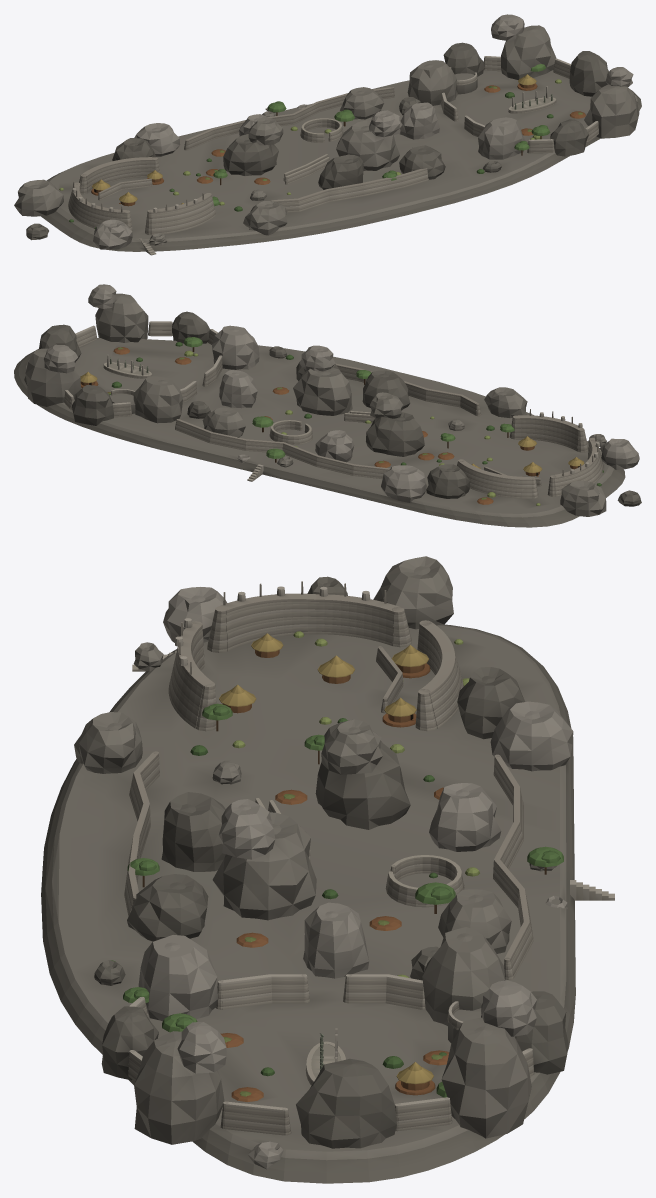
The model's file is hill-complex-1500.glb.
The picture shows the model from 3 angles, top to bottom: view 1: azimuth 30°, elevation 25°; view 2: azimuth 150°, elevation 25°; view 3: azimuth 270°, elevation 25°; orthographic projection. The views are drawn at different scales.
Visible parts, largest first — view 1: p0_kopje, p1_walls, p4_trees, p3_houses, p2_birds-and-turrets; view 2: p0_kopje, p1_walls, p4_trees, p3_houses, p2_birds-and-turrets; view 3: p0_kopje, p1_walls, p3_houses, p4_trees, p2_birds-and-turrets.
Boxes of the visible parts, x1=… form: p0_kopje: x1=14, y1=14, x2=641, y2=251; p1_walls: x1=68, y1=56, x2=598, y2=255; p4_trees: x1=59, y1=64, x2=561, y2=228; p3_houses: x1=91, y1=74, x2=585, y2=206; p2_birds-and-turrets: x1=72, y1=86, x2=556, y2=212; p0_kopje: x1=14, y1=284, x2=641, y2=527; p1_walls: x1=64, y1=321, x2=603, y2=498; p4_trees: x1=109, y1=337, x2=603, y2=505; p3_houses: x1=80, y1=347, x2=584, y2=504; p2_birds-and-turrets: x1=103, y1=355, x2=599, y2=476; p0_kopje: x1=41, y1=556, x2=575, y2=1183; p1_walls: x1=124, y1=593, x2=614, y2=1135; p3_houses: x1=219, y1=633, x2=449, y2=1101; p4_trees: x1=111, y1=631, x2=563, y2=1097; p2_birds-and-turrets: x1=175, y1=581, x2=386, y2=1085.
Bounding box in the file's own units: 283 × 26.8 × 116.
